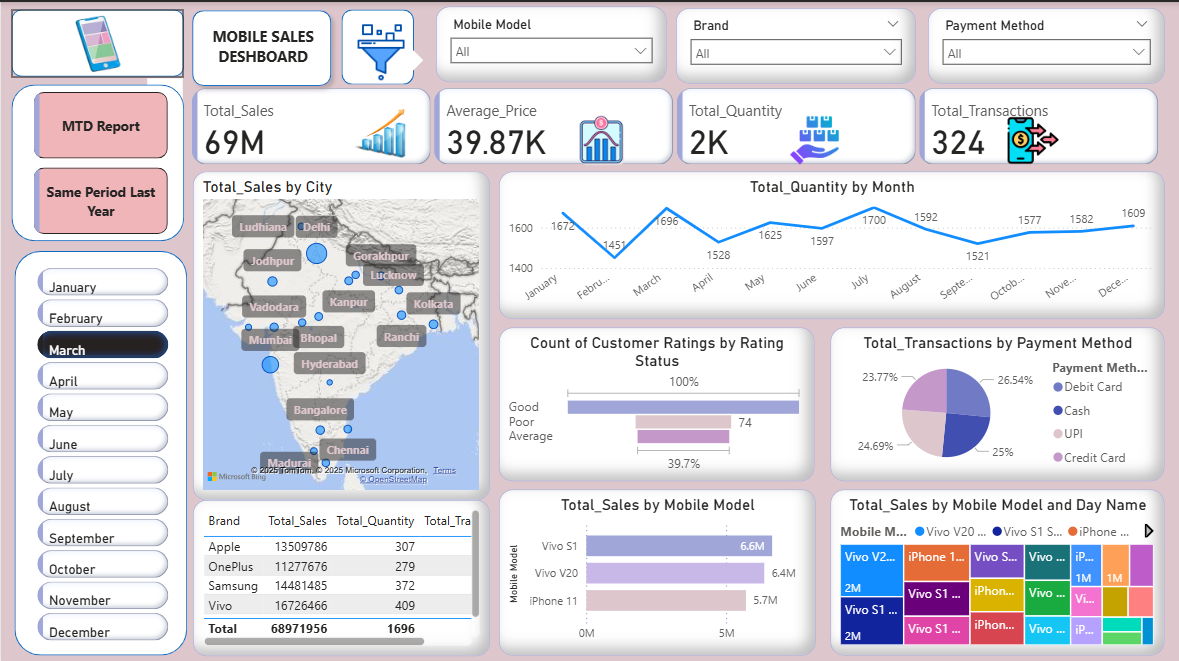

The dashboard page shown, as its layout file describes it:
{"tool":"powerbi","page":{"name":"Deshboard","canvas":[1280,720],"ordinal":0},"visuals":[{"type":"shape","box":[11.4,8.6,187.1,72.9],"z":0},{"type":"image","box":[61.8,0,89.5,89.5],"z":1000},{"type":"shape","box":[11.4,90,187.1,170],"z":2000},{"type":"shape","box":[14.3,270,187.1,438.6],"z":3000},{"type":"advancedSlicerVisual","fields":{"Values":["Custom_Calender.Date.Variation.Date Hierarchy.Month"]},"box":[34.3,282.9,152.9,425.7],"z":4000},{"type":"cardVisual","fields":{"Data":["Moblie_Sales_data.Total_Sales","Moblie_Sales_data.Average_Price","Moblie_Sales_data.Total_Quantity","Moblie_Sales_data.Total_Transactions"]},"box":[201.7,88.3,1060,93.3],"z":5000},{"type":"image","box":[340,108.6,142.9,65.7],"z":6000},{"type":"image","box":[580,117.1,141.4,65.7],"z":7000},{"type":"image","box":[848.6,117.1,65.7,65.7],"z":8000},{"type":"image","box":[1074.3,117.1,91.4,65.7],"z":9000},{"type":"slicer","fields":{"Values":["Moblie_Sales_data.Mobile Model"]},"box":[471.7,5,250,81.7],"z":10000},{"type":"slicer","fields":{"Values":["Moblie_Sales_data.Brand"]},"box":[731.7,6.7,260,81.7],"z":11000},{"type":"slicer","fields":{"Values":["Moblie_Sales_data.Payment Method"]},"box":[1005,6.7,256.7,81.7],"z":12000},{"type":"shape","box":[370,8.6,78.6,81.4],"z":13000},{"type":"image","box":[332.9,17.1,157.1,72.9],"z":14000},{"type":"shape","box":[431.4,50,27.1,25.7],"z":15000},{"type":"shape","box":[198.6,0,168.6,100],"z":16000},{"type":"textbox","box":[215.7,21.4,135.7,64.3],"z":17000},{"type":"map","fields":{"Category":["Moblie_Sales_data.City"],"Size":["Moblie_Sales_data.Total_Sales"]},"box":[208.3,183.3,321.7,356.7],"z":18000},{"type":"lineChart","fields":{"Category":["Custom_Calender.Date.Variation.Date Hierarchy.Month"],"Y":["Moblie_Sales_data.Total_Quantity"]},"box":[540,183.3,721.7,160],"z":19000},{"type":"funnel","fields":{"Y":["CountNonNull(Moblie_Sales_data.Customer Ratings)"],"Category":["Moblie_Sales_data.Rating Status"]},"box":[540,353.3,341.7,166.7],"z":20000},{"type":"pieChart","fields":{"Y":["Moblie_Sales_data.Total_Transactions"],"Category":["Moblie_Sales_data.Payment Method"]},"box":[900,353.3,361.7,166.7],"z":21000},{"type":"barChart","fields":{"Category":["Moblie_Sales_data.Mobile Model"],"Y":["Moblie_Sales_data.Total_Sales"]},"box":[540,528.3,343.3,180],"z":22000},{"type":"ribbonChart","fields":{"Category":["Moblie_Sales_data.Mobile Model","Custom_Calender.Day Name"],"Y":["Mobile_Sales_data.Total_Sales"]},"box":[900,528.3,361.7,180],"z":23000},{"type":"tableEx","fields":{"Values":["Moblie_Sales_data.Brand","Moblie_Sales_data.Total_Sales","Moblie_Sales_data.Total_Quantity","Moblie_Sales_data.Total_Transactions"]},"box":[208,540,322,169],"z":24000},{"type":"pageNavigator","box":[35.7,97.1,145.7,154.3],"z":25000}]}

Visuals, with their boxes in screenshot pixels (x1, y1, x2, y2), scaled from the page's 1280x720 canvas onto the 1179x661 screenshot:
shape: [11,8,183,75]
image: [57,0,139,82]
shape: [11,83,183,239]
shape: [13,248,186,651]
advancedSlicerVisual - Custom_Calender.Date.Variation.Date Hierarchy.Month: [32,260,172,651]
cardVisual - Moblie_Sales_data.Total_Sales x Moblie_Sales_data.Average_Price: [186,81,1162,167]
image: [313,100,445,160]
image: [534,108,664,168]
image: [782,108,842,168]
image: [990,108,1074,168]
slicer - Moblie_Sales_data.Mobile Model: [434,5,665,80]
slicer - Moblie_Sales_data.Brand: [674,6,913,81]
slicer - Moblie_Sales_data.Payment Method: [926,6,1162,81]
shape: [341,8,413,83]
image: [307,16,451,83]
shape: [397,46,422,69]
shape: [183,0,338,92]
textbox: [199,20,324,79]
map - Moblie_Sales_data.City x Moblie_Sales_data.Total_Sales: [192,168,488,496]
lineChart - Custom_Calender.Date.Variation.Date Hierarchy.Month x Moblie_Sales_data.Total_Quantity: [497,168,1162,315]
funnel - CountNonNull(Moblie_Sales_data.Customer Ratings) x Moblie_Sales_data.Rating Status: [497,324,812,477]
pieChart - Moblie_Sales_data.Total_Transactions x Moblie_Sales_data.Payment Method: [829,324,1162,477]
barChart - Moblie_Sales_data.Mobile Model x Moblie_Sales_data.Total_Sales: [497,485,814,650]
ribbonChart - Moblie_Sales_data.Mobile Model x Custom_Calender.Day Name: [829,485,1162,650]
tableEx - Moblie_Sales_data.Brand x Moblie_Sales_data.Total_Sales: [192,496,488,651]
pageNavigator: [33,89,167,231]
